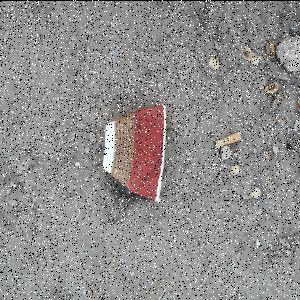Cup: (103, 104, 169, 202)
